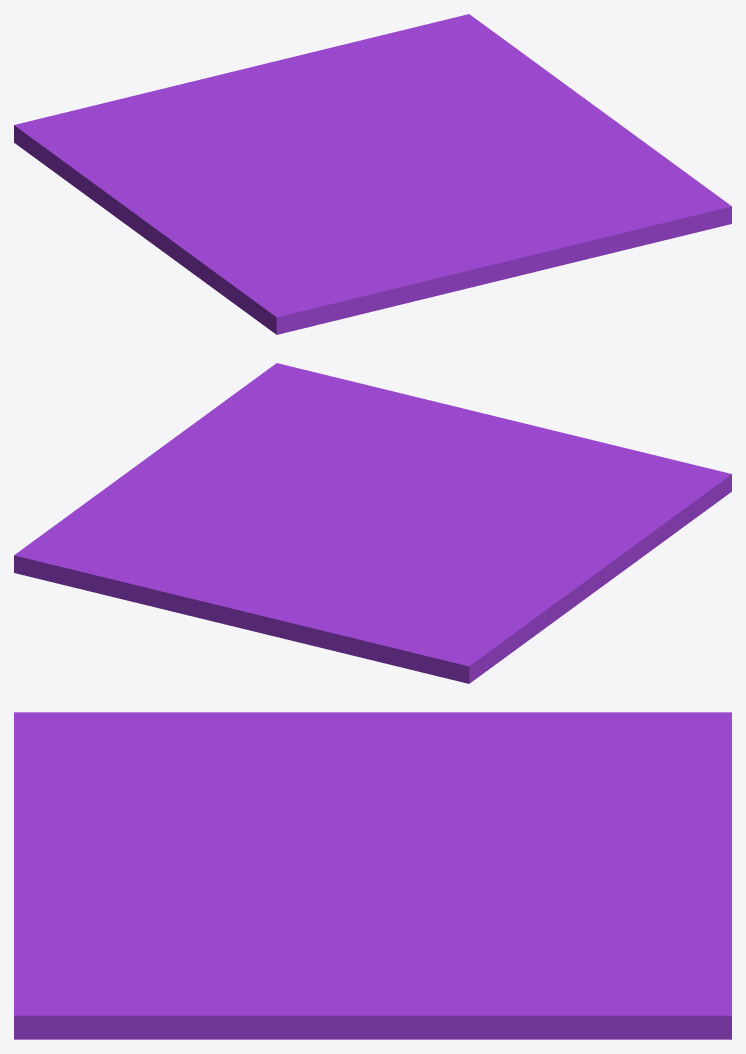
The model's file is Platform_27_chunks.fbx.
3 renders of one model, top to bottom at view 1: azimuth 30°, elevation 25°; view 2: azimuth 150°, elevation 25°; view 3: azimuth 270°, elevation 25°, orthographic. The views are drawn at different scales.
Parts seen in each view (by area): view 1: Platform_27_4, Platform_27_12, Platform_27_11, Platform_27_5, Platform_27_1, Platform_27_7, Platform_27_8, Platform_27_9, Platform_27_3, Platform_27_6, Platform_27_2; view 2: Platform_27_11, Platform_27_12, Platform_27_4, Platform_27_5, Platform_27_1, Platform_27_8, Platform_27_7, Platform_27_9, Platform_27_3, Platform_27_6, Platform_27_2; view 3: Platform_27_4, Platform_27_11, Platform_27_12, Platform_27_1, Platform_27_5, Platform_27_7, Platform_27_8, Platform_27_9, Platform_27_3, Platform_27_6, Platform_27_2.
Boxes of the visible parts, x1=… form: Platform_27_4: x1=503, y1=114, x2=731, y2=254; Platform_27_12: x1=14, y1=73, x2=279, y2=177; Platform_27_11: x1=227, y1=14, x2=516, y2=112; Platform_27_5: x1=161, y1=215, x2=367, y2=334; Platform_27_1: x1=377, y1=49, x2=566, y2=174; Platform_27_7: x1=296, y1=166, x2=531, y2=276; Platform_27_8: x1=80, y1=167, x2=307, y2=254; Platform_27_9: x1=224, y1=107, x2=446, y2=169; Platform_27_3: x1=393, y1=170, x2=603, y2=273; Platform_27_6: x1=327, y1=229, x2=514, y2=322; Platform_27_2: x1=536, y1=86, x2=605, y2=143; Platform_27_11: x1=14, y1=517, x2=309, y2=632; Platform_27_12: x1=256, y1=572, x2=535, y2=683; Platform_27_4: x1=151, y1=363, x2=412, y2=465; Platform_27_5: x1=513, y1=451, x2=731, y2=570; Platform_27_1: x1=62, y1=465, x2=381, y2=520; Platform_27_8: x1=410, y1=518, x2=622, y2=626; Platform_27_7: x1=372, y1=412, x2=524, y2=537; Platform_27_9: x1=217, y1=513, x2=455, y2=575; Platform_27_3: x1=317, y1=396, x2=476, y2=502; Platform_27_6: x1=515, y1=421, x2=639, y2=498; Platform_27_2: x1=112, y1=455, x2=246, y2=483; Platform_27_4: x1=14, y1=924, x2=356, y2=1039; Platform_27_11: x1=486, y1=854, x2=731, y2=1039; Platform_27_12: x1=473, y1=712, x2=731, y2=853; Platform_27_1: x1=272, y1=865, x2=612, y2=1039; Platform_27_5: x1=14, y1=712, x2=329, y2=798; Platform_27_7: x1=14, y1=791, x2=411, y2=882; Platform_27_8: x1=285, y1=712, x2=549, y2=829; Platform_27_9: x1=370, y1=787, x2=585, y2=940; Platform_27_3: x1=14, y1=867, x2=332, y2=925; Platform_27_6: x1=14, y1=773, x2=225, y2=856; Platform_27_2: x1=309, y1=960, x2=522, y2=1039.
Size of the model in its own units: 810 by 29.87 by 810.
